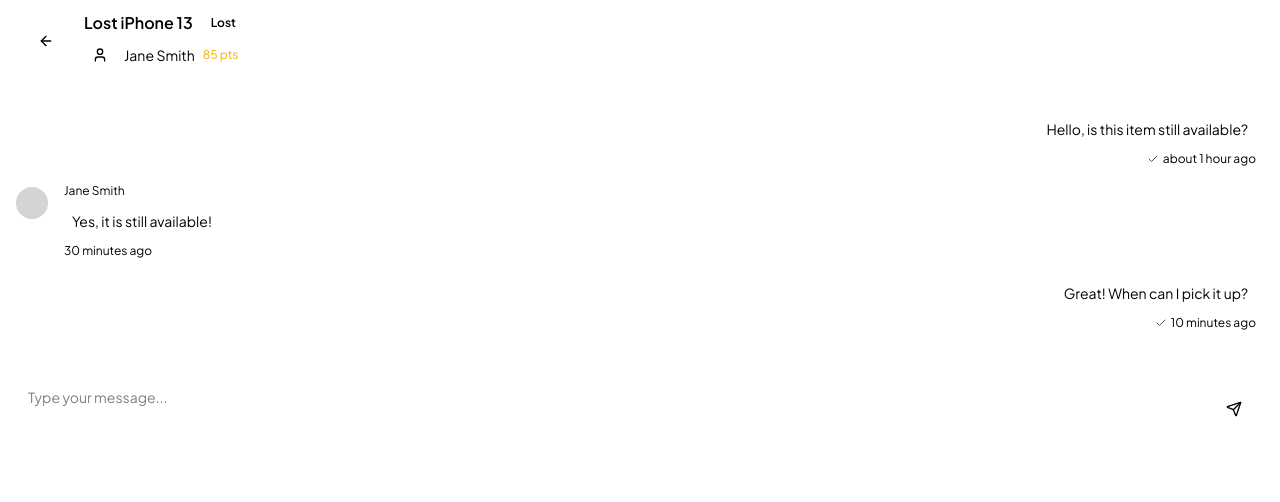
Message Flow Integration › should handle error when sending message fails
The image size is (1280, 502).
In the text box with placeholder "Type your message...": (640, 409) [16, 379, 1264, 439], type "Test message"
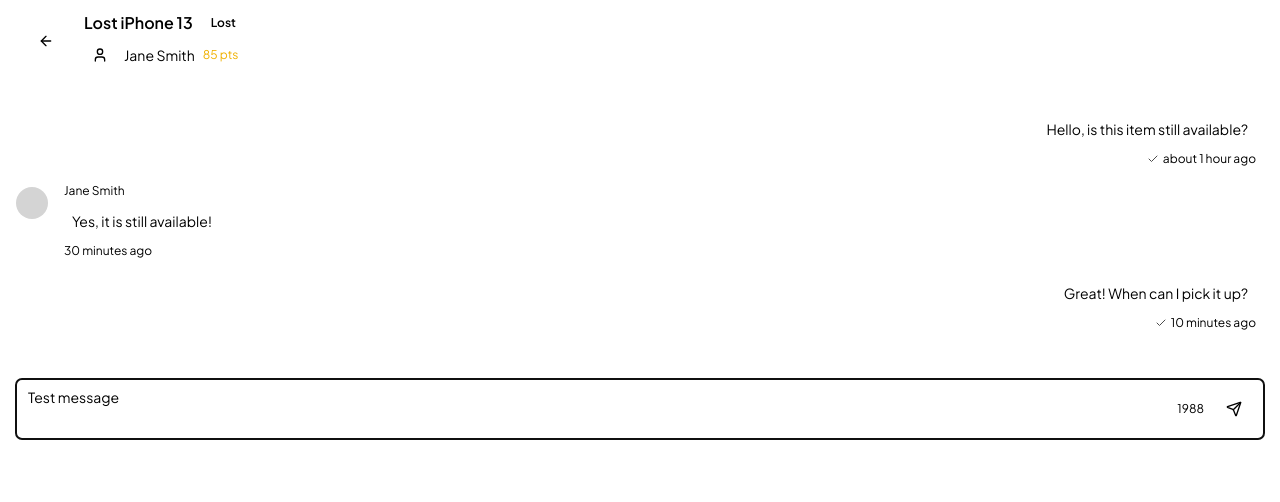
Click the button named "Send message": (1234, 409) [1212, 387, 1256, 431]
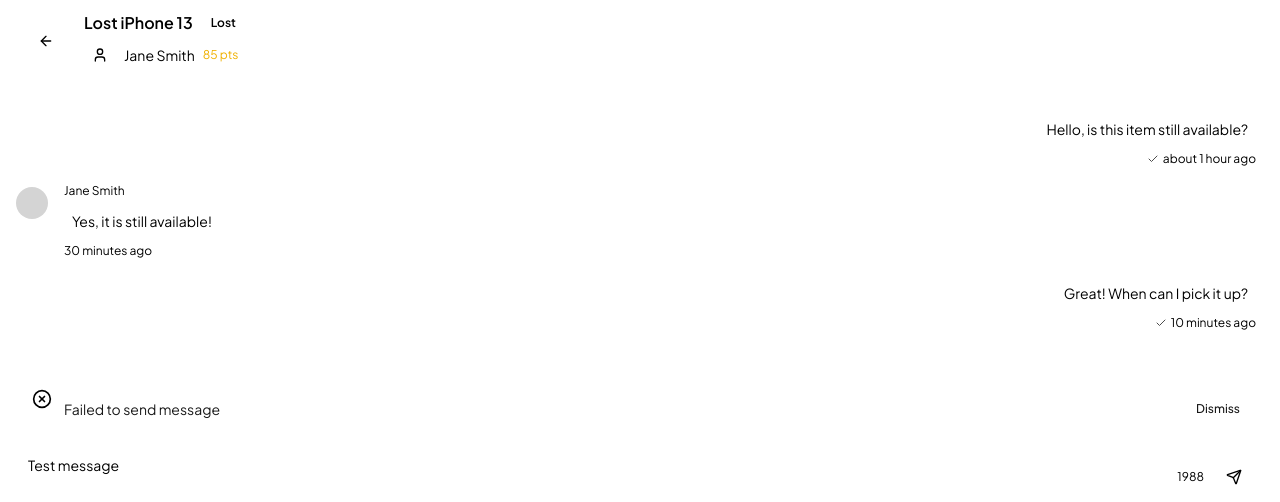
Expected: the text "Failed to send message" is shown, [64, 399, 220, 419]
